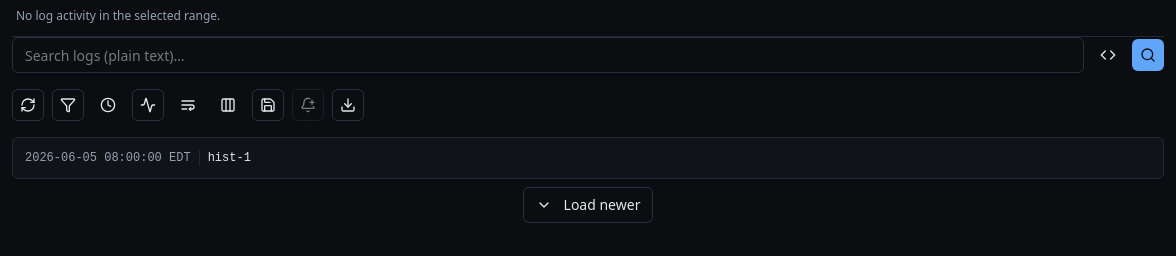
LogsExplorerPage › tail keeps historical lines and appends live lines below
The width and height of the screenshot is (1176, 256).
Expected: the field with test id "logs-search-input" is shown, [12,37,1084,73]
Expected: the text "hist-1" is shown, [208,151,251,165]
Click the button with test id "logs-tail-toggle" at {"x": 148, "y": 105}, box [132,89,164,121]
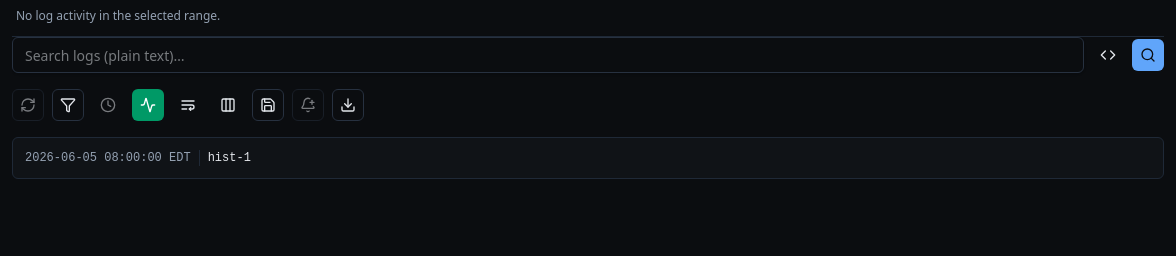
Click the button with test id "logs-tail-toggle" at {"x": 148, "y": 105}, box [132,89,164,121]
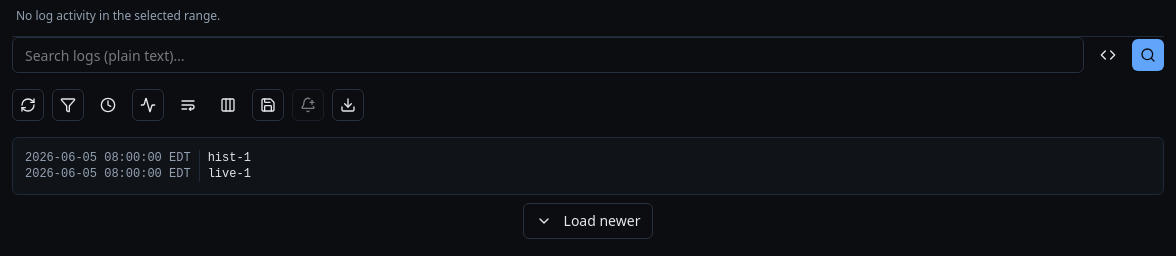
Expected: the text "hist-1" is shown, [208,151,251,165]
Result: the text "live-1" is shown at [208,167,251,181]
